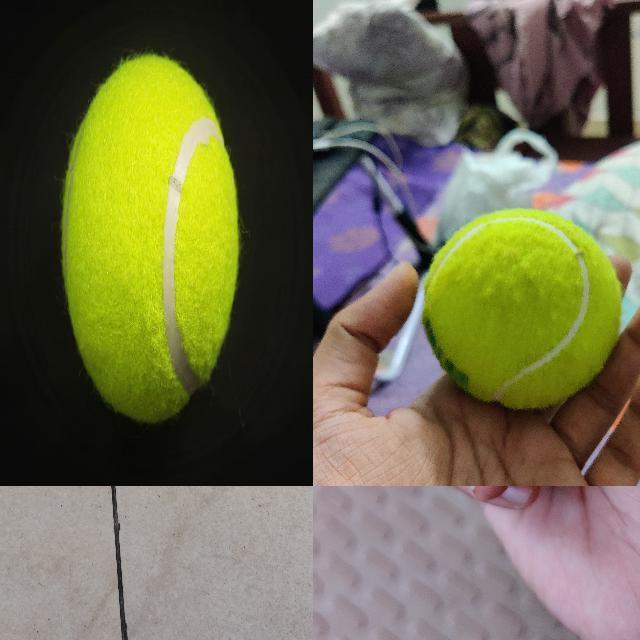tennis-ball: (59, 54, 240, 426), (421, 206, 623, 410)
